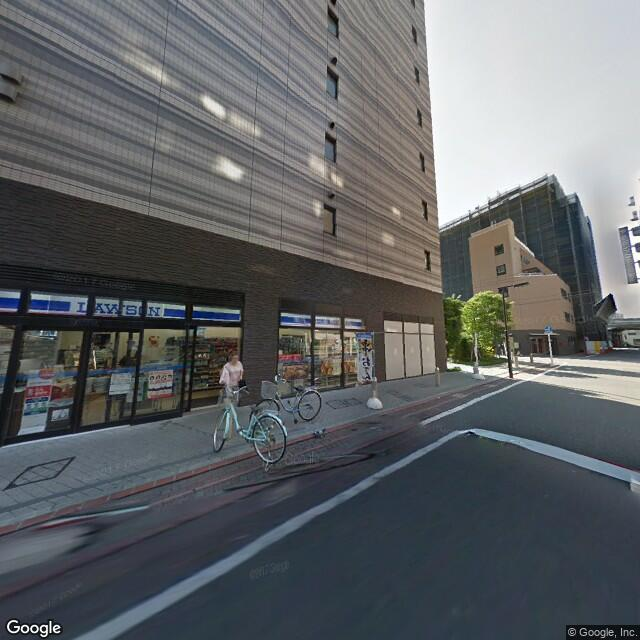lawson: (1, 289, 241, 327)
